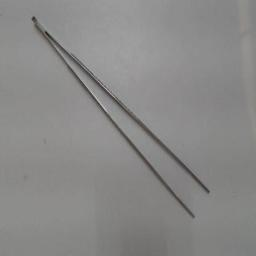DeBakey Dissector: (27, 6, 225, 232)
